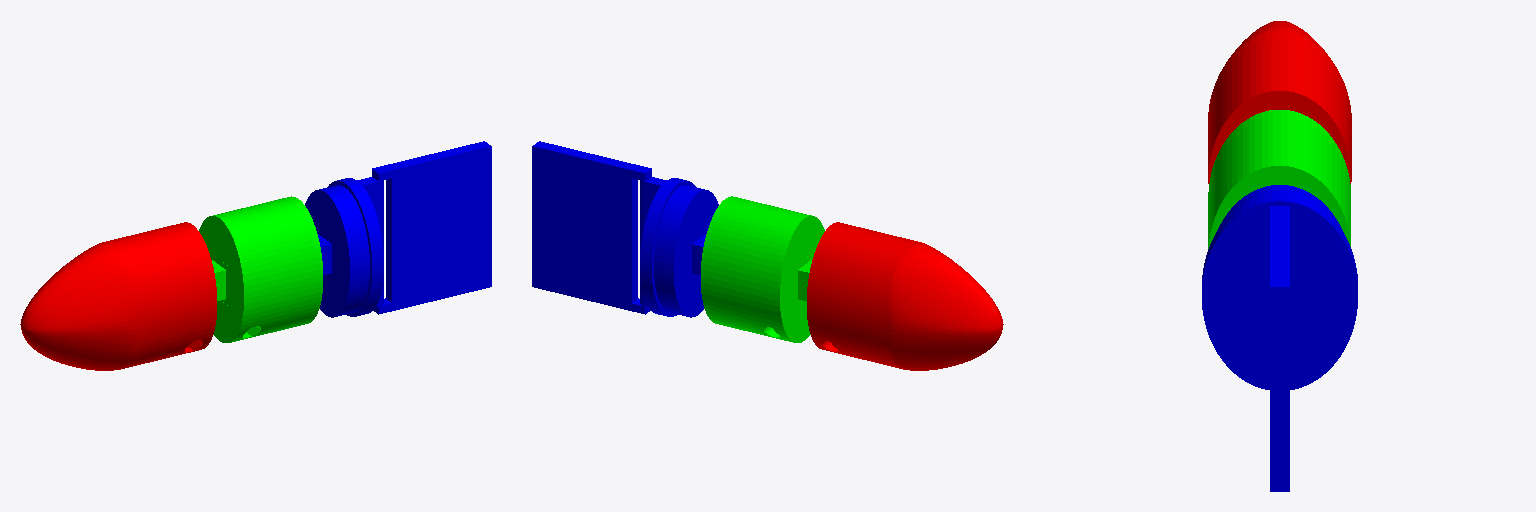
URDF robot description (mubot):
<?xml version="1.0" encoding="utf-8"?>
<robot
  name="mubot">


<!--Defination of links: head, body, peduncle and tail -->


<link
  name="dummy_link">
  <inertial>
    <origin
      xyz="0.02857 0.0 0.0"
      rpy="0 0 0" />
    <mass
      value="1.967E-02" />
    <inertia
      ixx="5.351E-07"
      ixy="0.0"
      ixz="0.0"
      iyy="7.136E-07"
      iyz="0.0"
      izz="6.043E-06" />
  </inertial>
  <visual>
    <origin
      xyz="0 0 0"
      rpy="0 0 0" />
    <geometry>
      <mesh
        filename="package://des_mubot/meshes/segment_head.STL" scale="1 1 1"/>
    </geometry>
    <material
      name="">
      <color
        rgba="1 0 0 1" />
    </material>
  </visual>
  <collision>
    <origin
      xyz="0 0 0"
      rpy="0 0 0" />
    <geometry>
      <mesh
        filename="package://des_mubot/meshes/segment_head.STL" scale="1 1 1"/>
    </geometry>
  </collision>
</link>

<link
  name="segment_body_1">
  <inertial>
    <origin
      xyz="0.01170 0.0 0.0"
      rpy="0 0 0" />
    <mass
      value="1.975E-02" />
    <inertia
      ixx="6.205E-07"
      ixy="0.0"
      ixz="0.0"
      iyy="8.904E-07"
      iyz="0.0"
      izz="2.018E-06" />
  </inertial>
  <visual>
    <origin
      xyz="0 0 0"
      rpy="0 0 0" />
    <geometry>
      <mesh
        filename="package://des_mubot/meshes/segment_body.STL" scale="1 1 1"/>
    </geometry>
    <material
      name="">
      <color
        rgba="0 1 0 1" />
    </material>
  </visual>
  <collision>
    <origin
      xyz="0 0 0"
      rpy="0 0 0" />
    <geometry>
      <mesh
        filename="package://des_mubot/meshes/segment_body.STL" scale="1 1 1"/>
    </geometry>
  </collision>
</link>


<link name="segment_head">
</link>
<joint
name="dummy joint" type="fixed">
<parent
  link="segment_head" />
<child
  link="dummy_link" />
</joint>

<link
  name="segment_peduncle">
  <inertial>
    <origin
      xyz="0.007515 0.0 0.0"
      rpy="0 0 0" />
    <mass
      value="1.418E-02" />
    <inertia
      ixx="5.040E-07"
      ixy="0.0"
      ixz="0.0"
      iyy="3.564E-07"
      iyz="0.0"
      izz="1.109E-06" />
  </inertial>
  <visual>
    <origin
      xyz="0 0 0"
      rpy="0 0 0" />
    <geometry>
      <mesh
        filename="package://des_mubot/meshes/segment_tail.STL" scale="1 1 1"/>
    </geometry>
    <material
      name="">
      <color
        rgba="0 0 1 1" />
    </material>
  </visual>
  <collision>
    <origin
      xyz="0 0 0"
      rpy="0 0 0" />
    <geometry>
      <mesh
        filename="package://des_mubot/meshes/segment_tail.STL" scale="1 1 1"/>
    </geometry>
  </collision>
</link>

<link
  name="segment_tip">
  <inertial>
    <origin
      xyz="0.01400 0.0 0.0"
      rpy="0 0 0" />
    <mass
      value="1.003E-02" />
    <inertia
      ixx="2.567E-08"
      ixy="0.0"
      ixz="0.0"
      iyy="4.882E-08"
      iyz="0.0"
      izz="1.730E-06" />
  </inertial>
  <visual>
    <origin
      xyz="0 0 0"
      rpy="0 0 0" />
    <geometry>
      <mesh
        filename="package://des_mubot/meshes/segment_tip.STL" scale="1 1 1"/>
    </geometry>
    <material
      name="">
      <color
        rgba="0 0 1 1" />
    </material>
  </visual>
  <collision>
    <origin
      xyz="0 0 0"
      rpy="0 0 0" />
    <geometry>
      <mesh
        filename="package://des_mubot/meshes/segment_tip.STL" scale="1 1 1"/>
    </geometry>
  </collision>
</link>




<!--Defination of joints: joint0-joint5-->
<joint
name="joint_a0"
type="revolute">
<origin
  xyz="0.041 0 0"
  rpy="0 0 0" />
<parent
  link="segment_head" />
<child
  link="segment_body_1" />
<axis
  xyz="0 0 1" />
<limit
  lower="-1.57"
  upper="1.57"
  effort="10"
  velocity="10" />
</joint>

<joint
name="joint_a1"
type="revolute">
<origin
  xyz="0.02675 0 0"
  rpy="0 0 0" />
<parent
  link="segment_body_1" />
<child
  link="segment_peduncle" />
<axis
  xyz="0 0 1" />
<limit
  lower="-1.57"
  upper="1.57"
  effort="10"
  velocity="10" />
</joint>

<joint
name="joint_p0"
type="revolute">
<origin
  xyz="0.02175 0 0"
  rpy="0 0 0" />
<parent
  link="segment_peduncle" />
<child
  link="segment_tip" />
<axis
  xyz="0 0 1" />
<limit
  lower="-1.57"
  upper="1.57"
  effort="10"
  velocity="10" />
</joint>


<gazebo reference="dummy_link">
    <material>Gazebo/Red</material>
</gazebo>

<gazebo reference="segment_body_1">
    <material>Gazebo/Yellow</material>
</gazebo>

<gazebo reference="segment_peduncle">
    <material>Gazebo/Orange</material>
</gazebo>

<gazebo reference="segment_tip">
    <material>Gazebo/Blue</material>
</gazebo>

<!--Defination of plugins-->
<gazebo>
    <plugin name="gazebo_ros_control" filename="libgazebo_ros_control.so">
        <robotNamespace>/mubot</robotNamespace>
    </plugin>
</gazebo>

<gazebo>
        <plugin name="Actuator_control" filename="libactuator_2.so"/>
        <plugin name="Hydro_Plugin" filename="libHydro_2.so"/>
</gazebo>


</robot>

--- Render facts (derived) ---
3 views of the same robot in one strip: view 1: azimuth 30°, elevation 25°; view 2: azimuth 150°, elevation 25°; view 3: azimuth 270°, elevation 25° (orthographic).
Model mubot with 5 links and 4 joints (3 revolute, 1 fixed), rooted at segment_head, posed every joint at zero.
Visible links, largest first — view 1: dummy_link, segment_tip, segment_body_1, segment_peduncle; view 2: dummy_link, segment_tip, segment_body_1, segment_peduncle; view 3: segment_peduncle, dummy_link, segment_body_1, segment_tip.
Link boxes in pixels (bbox=[...]): dummy_link: bbox=[20, 222, 216, 370]; segment_tip: bbox=[372, 141, 491, 314]; segment_body_1: bbox=[199, 196, 322, 342]; segment_peduncle: bbox=[305, 177, 383, 317]; dummy_link: bbox=[807, 222, 1003, 370]; segment_tip: bbox=[532, 141, 651, 314]; segment_body_1: bbox=[701, 196, 824, 342]; segment_peduncle: bbox=[640, 177, 718, 317]; segment_peduncle: bbox=[1202, 185, 1357, 389]; dummy_link: bbox=[1208, 21, 1351, 183]; segment_body_1: bbox=[1208, 110, 1350, 248]; segment_tip: bbox=[1270, 206, 1289, 491].
Bounding box of the posed robot: 0.1175 × 0.0235 × 0.034 m (x, y, z).
Meshes: 4 distinct files referenced, 4 mesh visuals loaded (4 binary STL).
